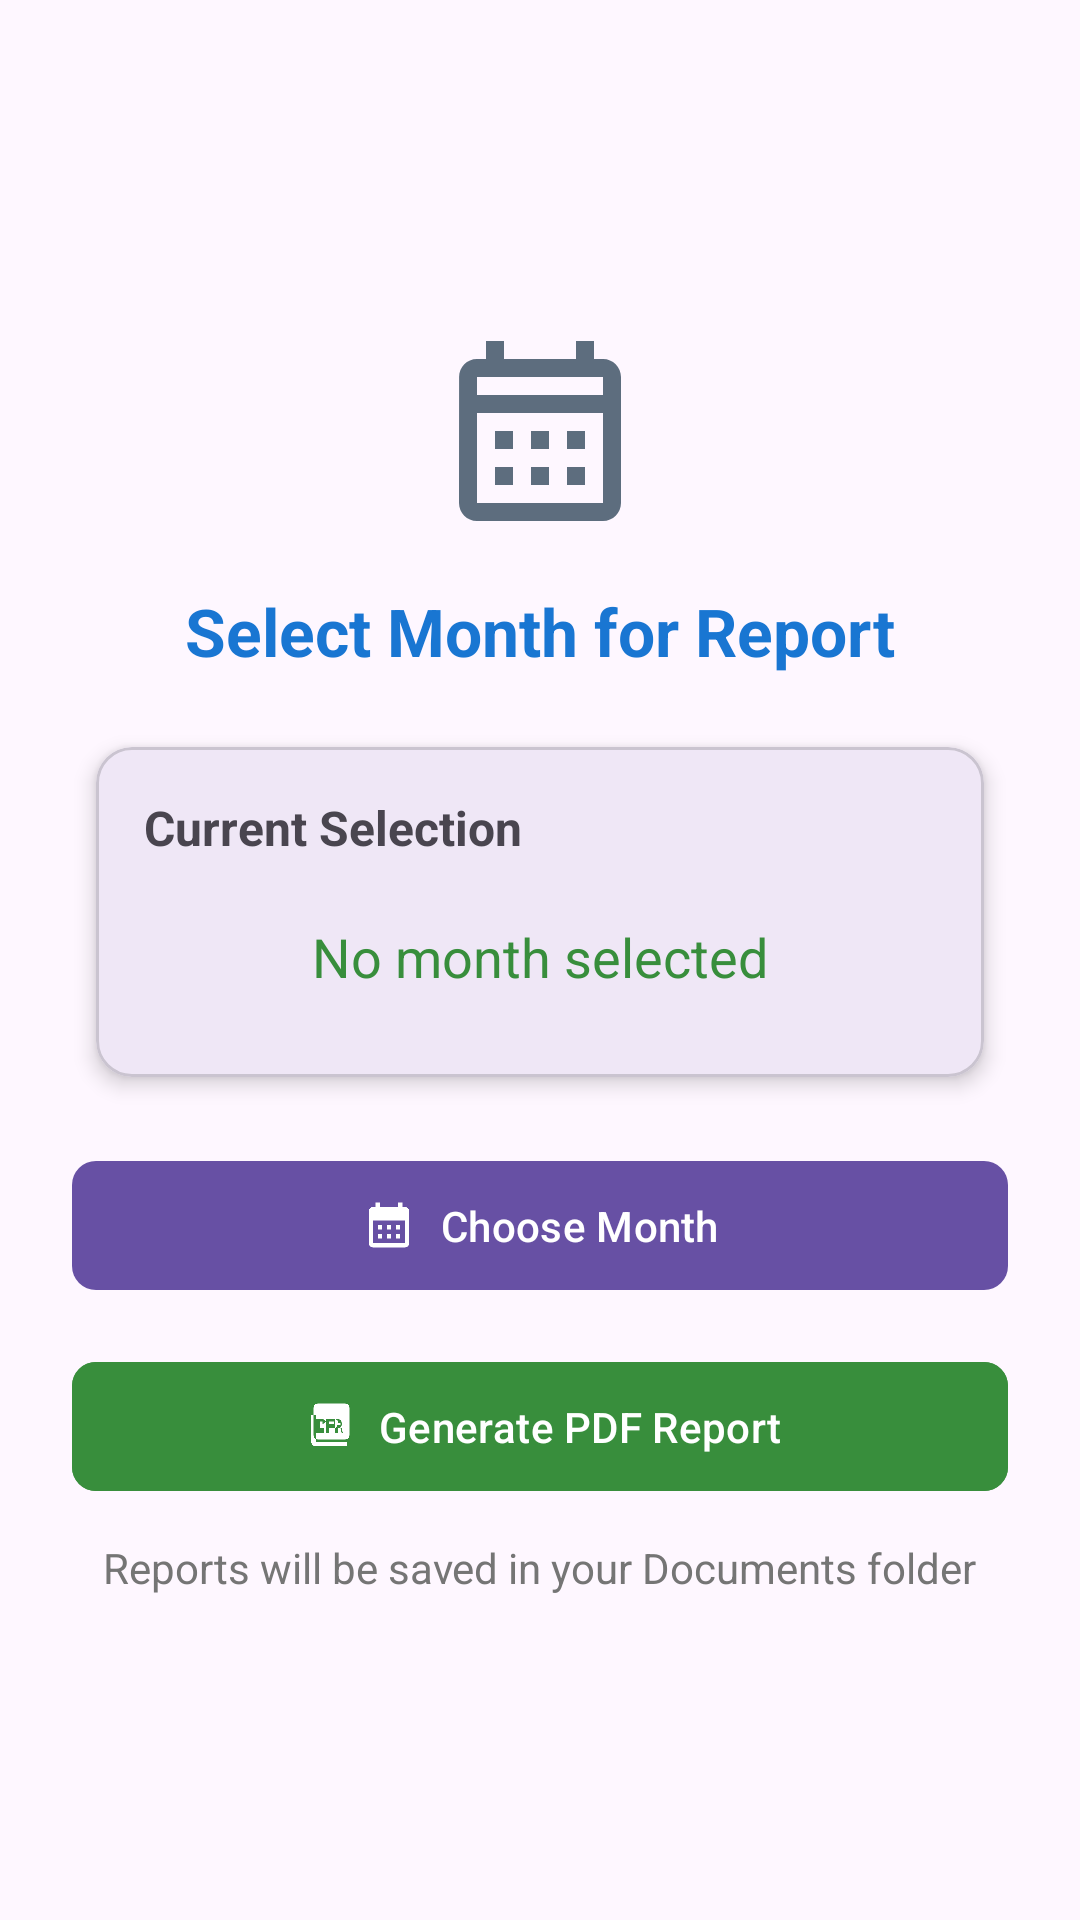

Named icons in this screenshot (1080 x 1920) and their bounding boxes, BBox(x1, y1, x2, y2):
Calendar icon: BBox(459, 341, 621, 521)
